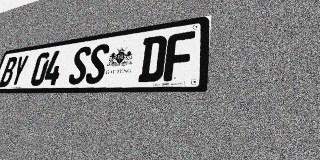0: (29, 52, 51, 86)
4: (42, 50, 65, 86)
B: (0, 56, 18, 87)
D: (137, 35, 168, 82)
F: (163, 31, 195, 81)
S: (84, 43, 111, 84), (67, 46, 92, 85)
Y: (9, 55, 29, 87)
